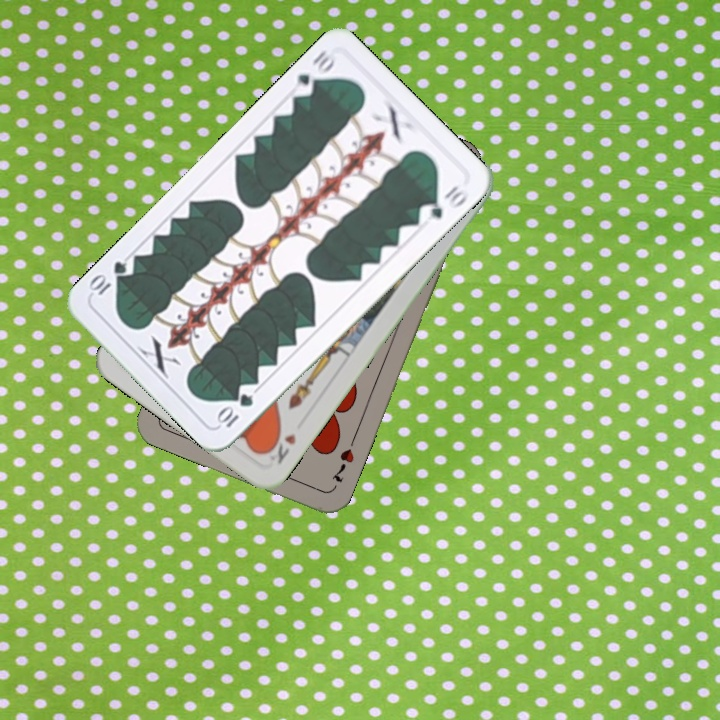G10: (288, 45, 338, 100), (213, 389, 256, 431)
H7: (327, 444, 357, 485)
HK: (261, 427, 299, 467)
